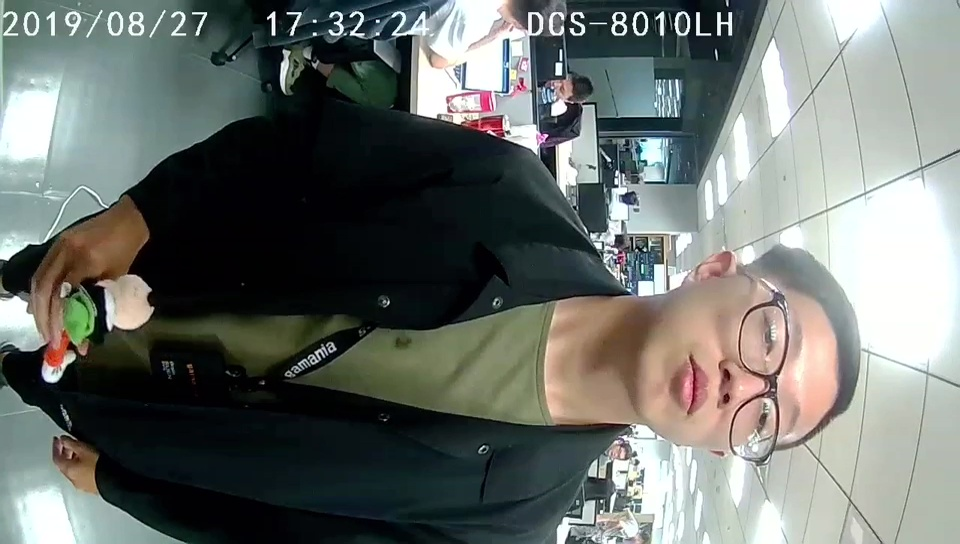goofy: (40, 271, 155, 382)
